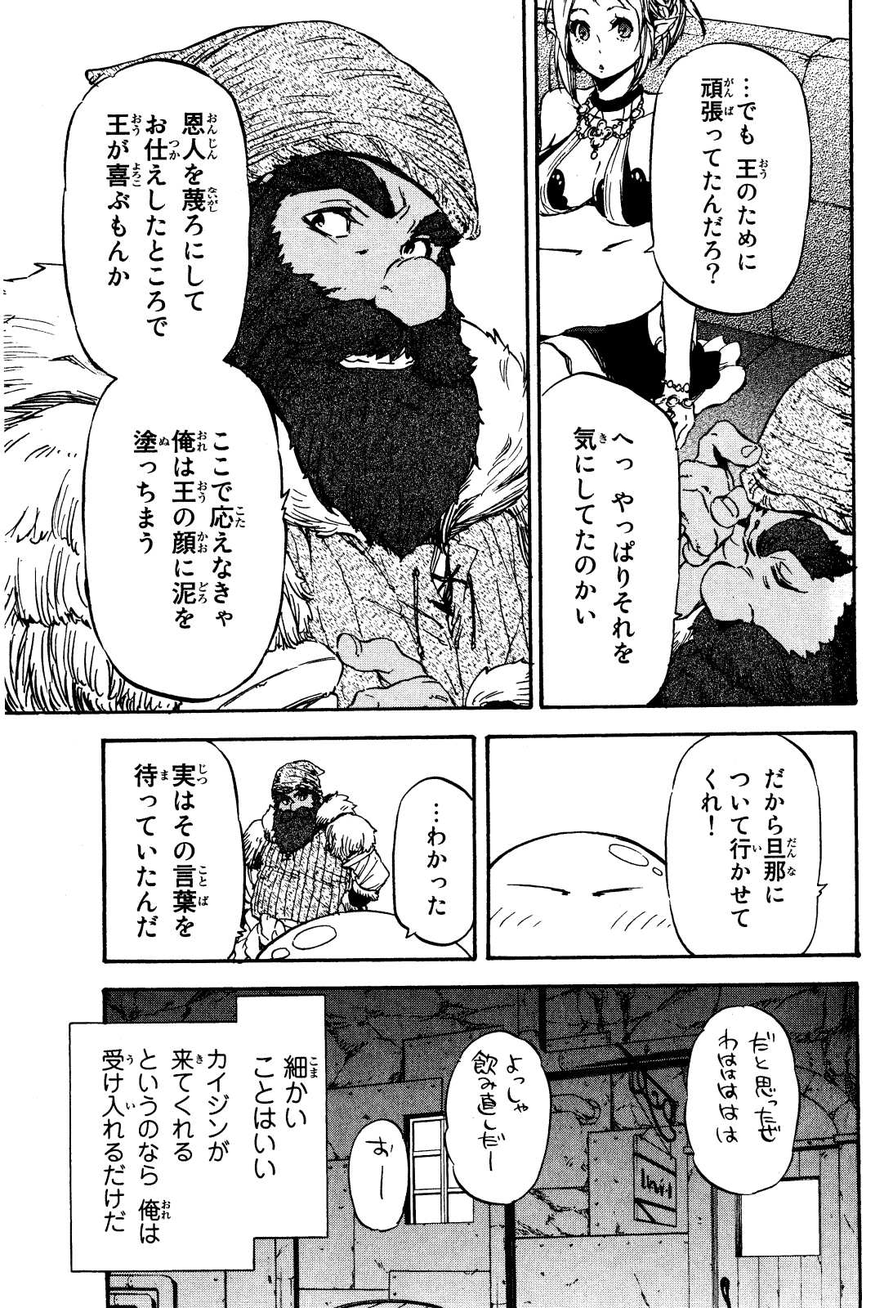bubbles: (56, 52, 298, 705), (62, 987, 330, 1274), (536, 368, 684, 709), (644, 41, 811, 319), (662, 732, 834, 956), (100, 736, 244, 960), (676, 1001, 803, 1199), (436, 1027, 558, 1208), (385, 773, 473, 949), (342, 1111, 413, 1239)
